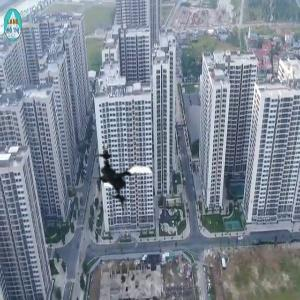drone: (87, 140, 166, 219)
